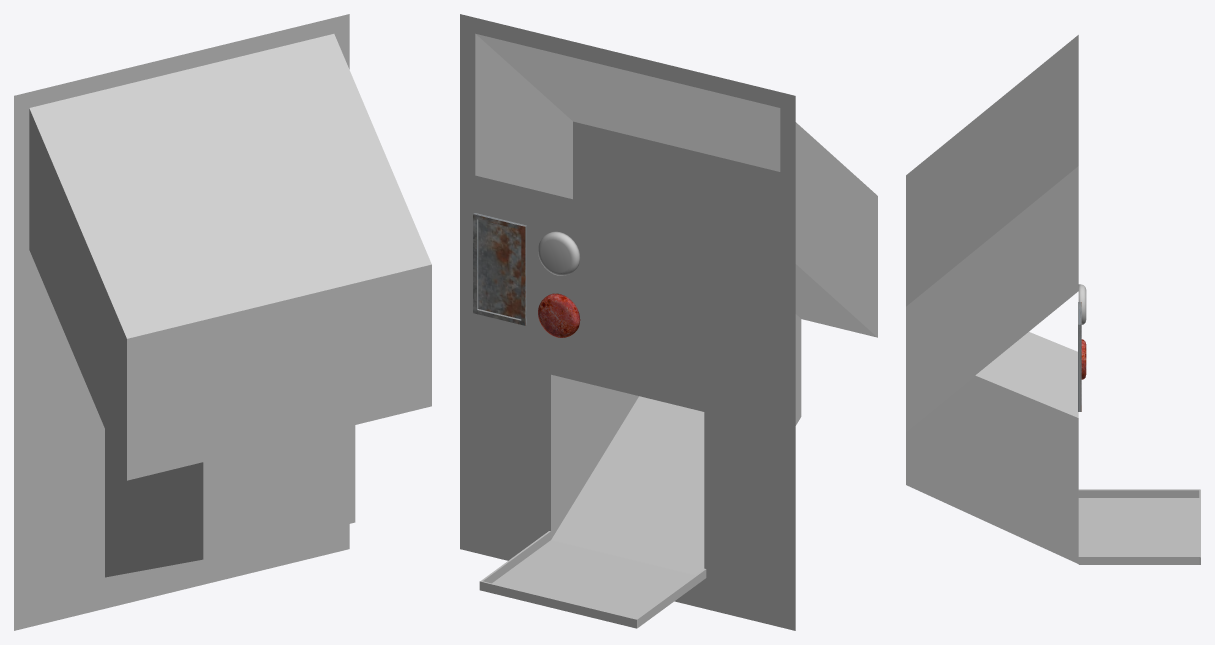
Rendered from Bagger2.fbx.
3 views of the same model, side by side, from view 1: azimuth 30°, elevation 25°; view 2: azimuth 150°, elevation 25°; view 3: azimuth 270°, elevation 25° (orthographic). The views are drawn at different scales.
Parts seen in each view (by area): view 1: Cube; view 2: Cube, Cube.001, Circle.001, Circle; view 3: Cube, Cube.001.
Boxes of the visible parts, x1,y1,x2,y2 form: Cube: (14,14,431,630); Cube: (460,14,877,630); Cube.001: (473,213,526,325); Circle.001: (538,293,580,337); Circle: (538,231,580,275); Cube: (906,35,1200,564); Cube.001: (1078,302,1081,411).
Size of the model in its own units: 3965 by 6045 by 3419.
